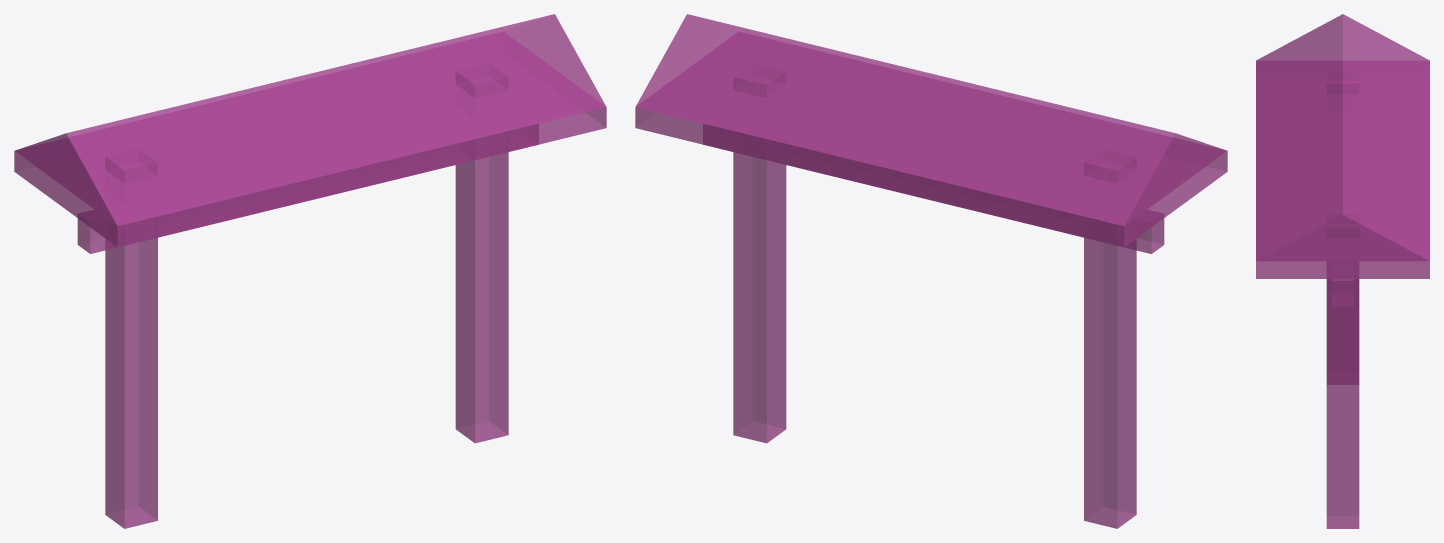
File: SM_Bld_Archway_01_Collision_01.fbx
The picture shows the model from 3 angles, left to right: view 1: azimuth 30°, elevation 25°; view 2: azimuth 150°, elevation 25°; view 3: azimuth 270°, elevation 25°; orthographic projection. The views are drawn at different scales.
Parts seen in each view (by area): view 1: SM_Bld_Archway_01_Collision_01; view 2: SM_Bld_Archway_01_Collision_01; view 3: SM_Bld_Archway_01_Collision_01.
Part boxes in pixels (<box>): SM_Bld_Archway_01_Collision_01: <box>14,14,606,528</box>; SM_Bld_Archway_01_Collision_01: <box>635,14,1227,528</box>; SM_Bld_Archway_01_Collision_01: <box>1256,14,1429,528</box>.
Size of the model in its own units: 586 by 459 by 214.
